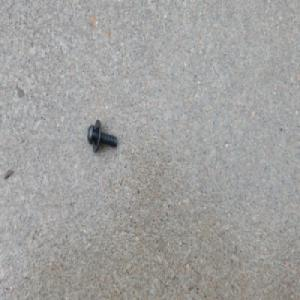BoltWasher: (86, 118, 118, 153)
